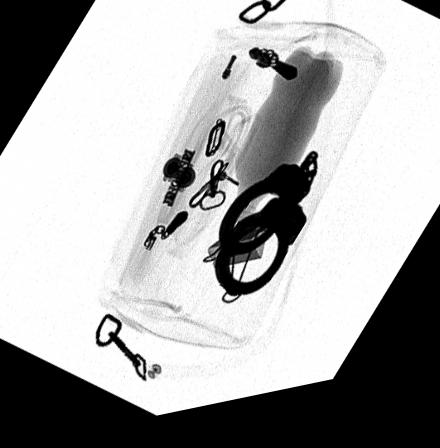HandCuffs: (214, 164, 320, 307)
